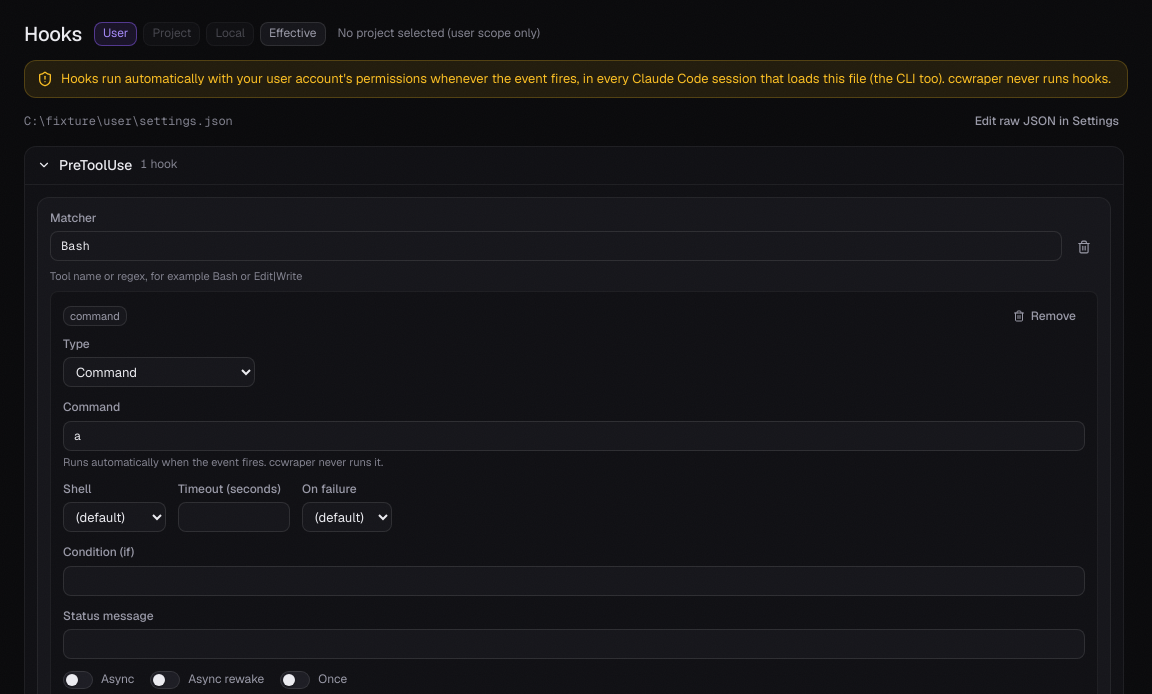
Test case: HooksPage editing › shows the matcher RegExp warning
The image size is (1152, 694).
Replace the text in the field named "Matcher for PreToolUse group 1" with "Bash(" at coordinates (556, 246), box [50,231,1062,261]
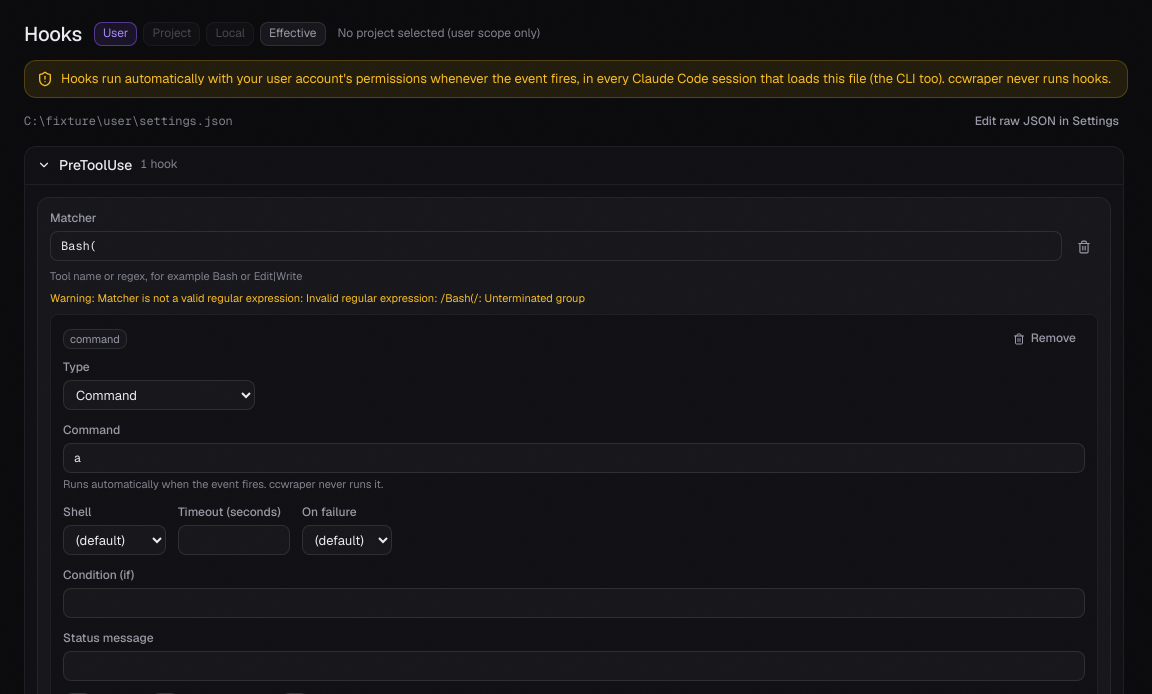
Expected: the list item "not a valid regular expression" is shown, [98,291,585,305]
